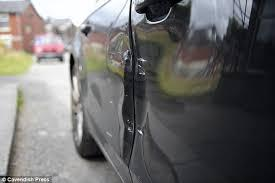doorouter-dent: (96, 11, 142, 153)
